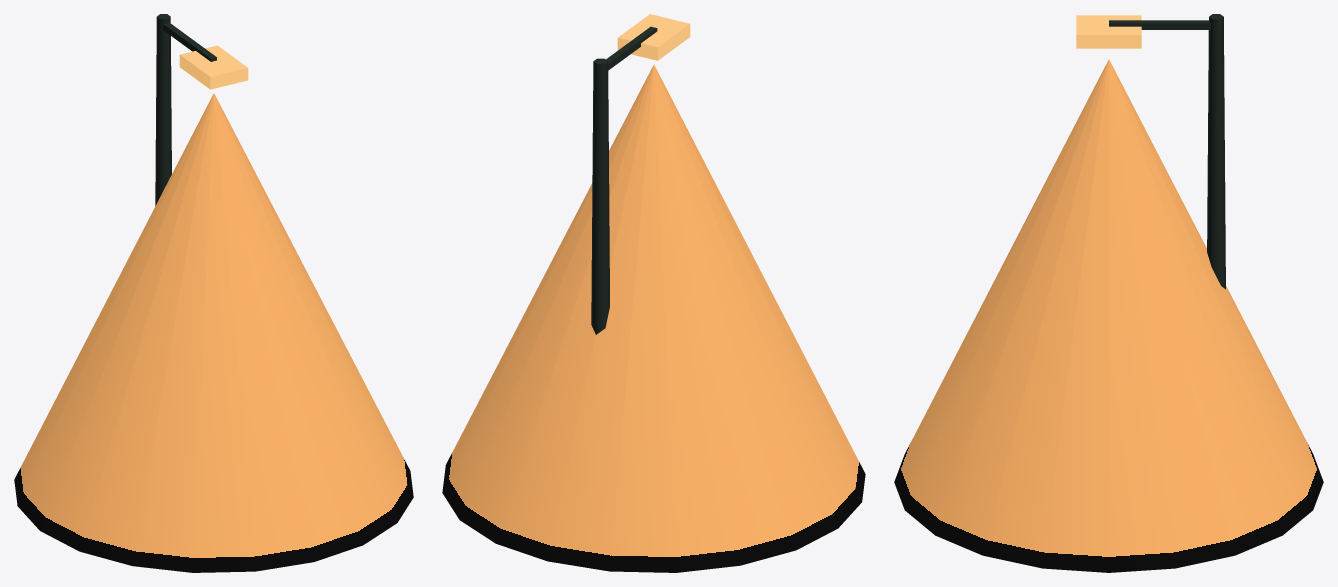
File: Laterne_3.glb
3 views of the same model, side by side, from view 1: azimuth 30°, elevation 25°; view 2: azimuth 150°, elevation 25°; view 3: azimuth 270°, elevation 25° (orthographic). The views are drawn at different scales.
Visible parts, largest first — view 1: Laterne_3; view 2: Laterne_3; view 3: Laterne_3.
Boxes of the visible parts, x1,y1,x2,y2 form: Laterne_3: [14, 14, 413, 572]; Laterne_3: [442, 14, 865, 572]; Laterne_3: [894, 14, 1323, 572].
Bounding box in the file's own units: 4.6 × 5.6 × 4.6.
Materials: 3 (1 with a texture image).
